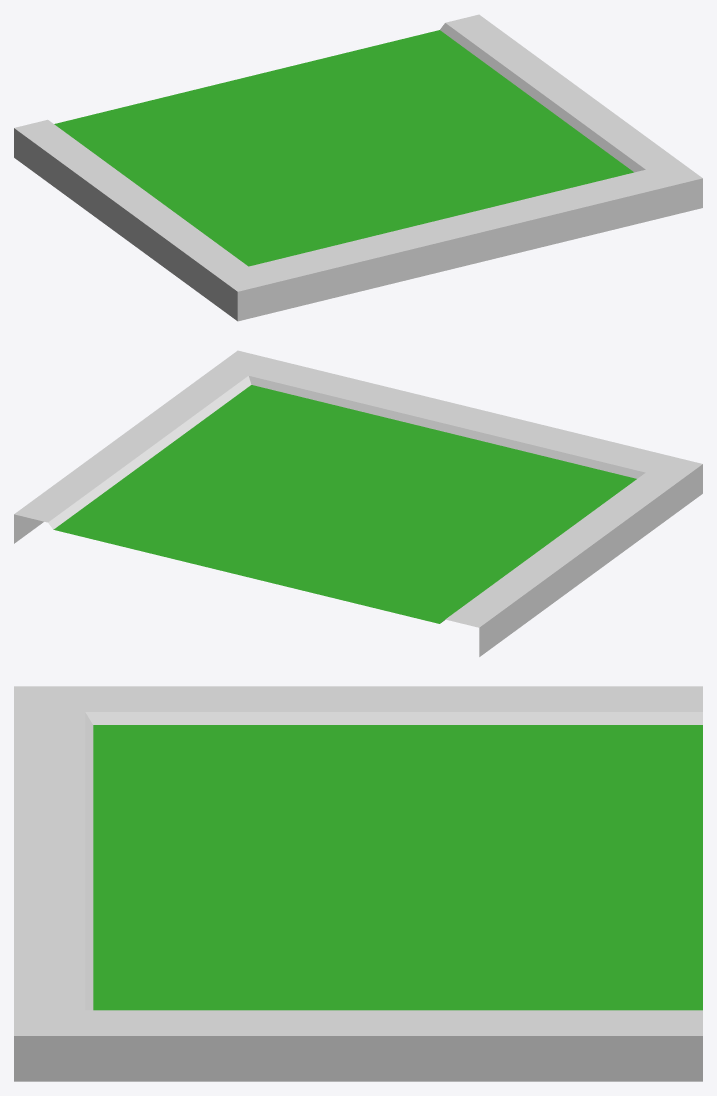
The model's file is GrassBed_1_B_1_.fbx.
3 renders of one model, top to bottom at view 1: azimuth 30°, elevation 25°; view 2: azimuth 150°, elevation 25°; view 3: azimuth 270°, elevation 25°, orthographic. The views are drawn at different scales.
Parts seen in each view (by area): view 1: GrassBed_1_B_1; view 2: GrassBed_1_B_1; view 3: GrassBed_1_B_1.
Part boxes in pixels (<box>): GrassBed_1_B_1: <box>14,14,702,321</box>; GrassBed_1_B_1: <box>14,350,702,656</box>; GrassBed_1_B_1: <box>14,686,702,1081</box>.
Bounding box in the file's own units: 120 × 7.32 × 100.
